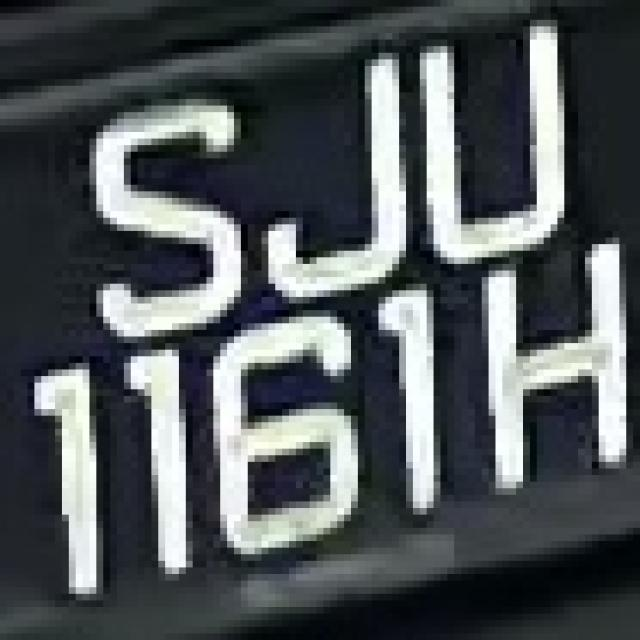1: (378, 238, 468, 534), (131, 290, 213, 600), (35, 337, 110, 620)
6: (207, 297, 386, 561)
H: (7, 2, 640, 640), (473, 232, 640, 494)
J: (248, 39, 420, 304)
S: (76, 73, 254, 350)
U: (406, 13, 578, 271)
